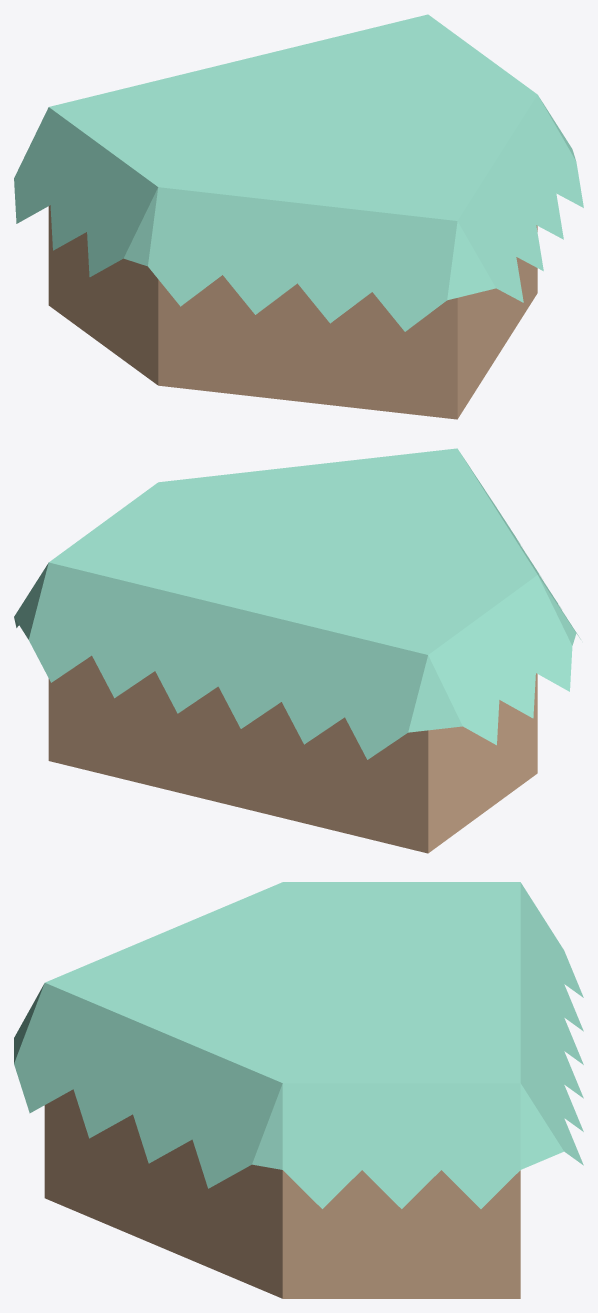
3 renders of one model, top to bottom at view 1: azimuth 30°, elevation 25°; view 2: azimuth 150°, elevation 25°; view 3: azimuth 270°, elevation 25°, orthographic. The views are drawn at different scales.
Visible parts, largest first — view 1: blockEnd; view 2: blockEnd; view 3: blockEnd.
Boxes of the visible parts, x1,y1,x2,y2 form: blockEnd: [14, 14, 583, 419]; blockEnd: [14, 448, 580, 853]; blockEnd: [14, 882, 583, 1298].
Bounding box in the file's own units: 1.27 × 0.5 × 1.2.
